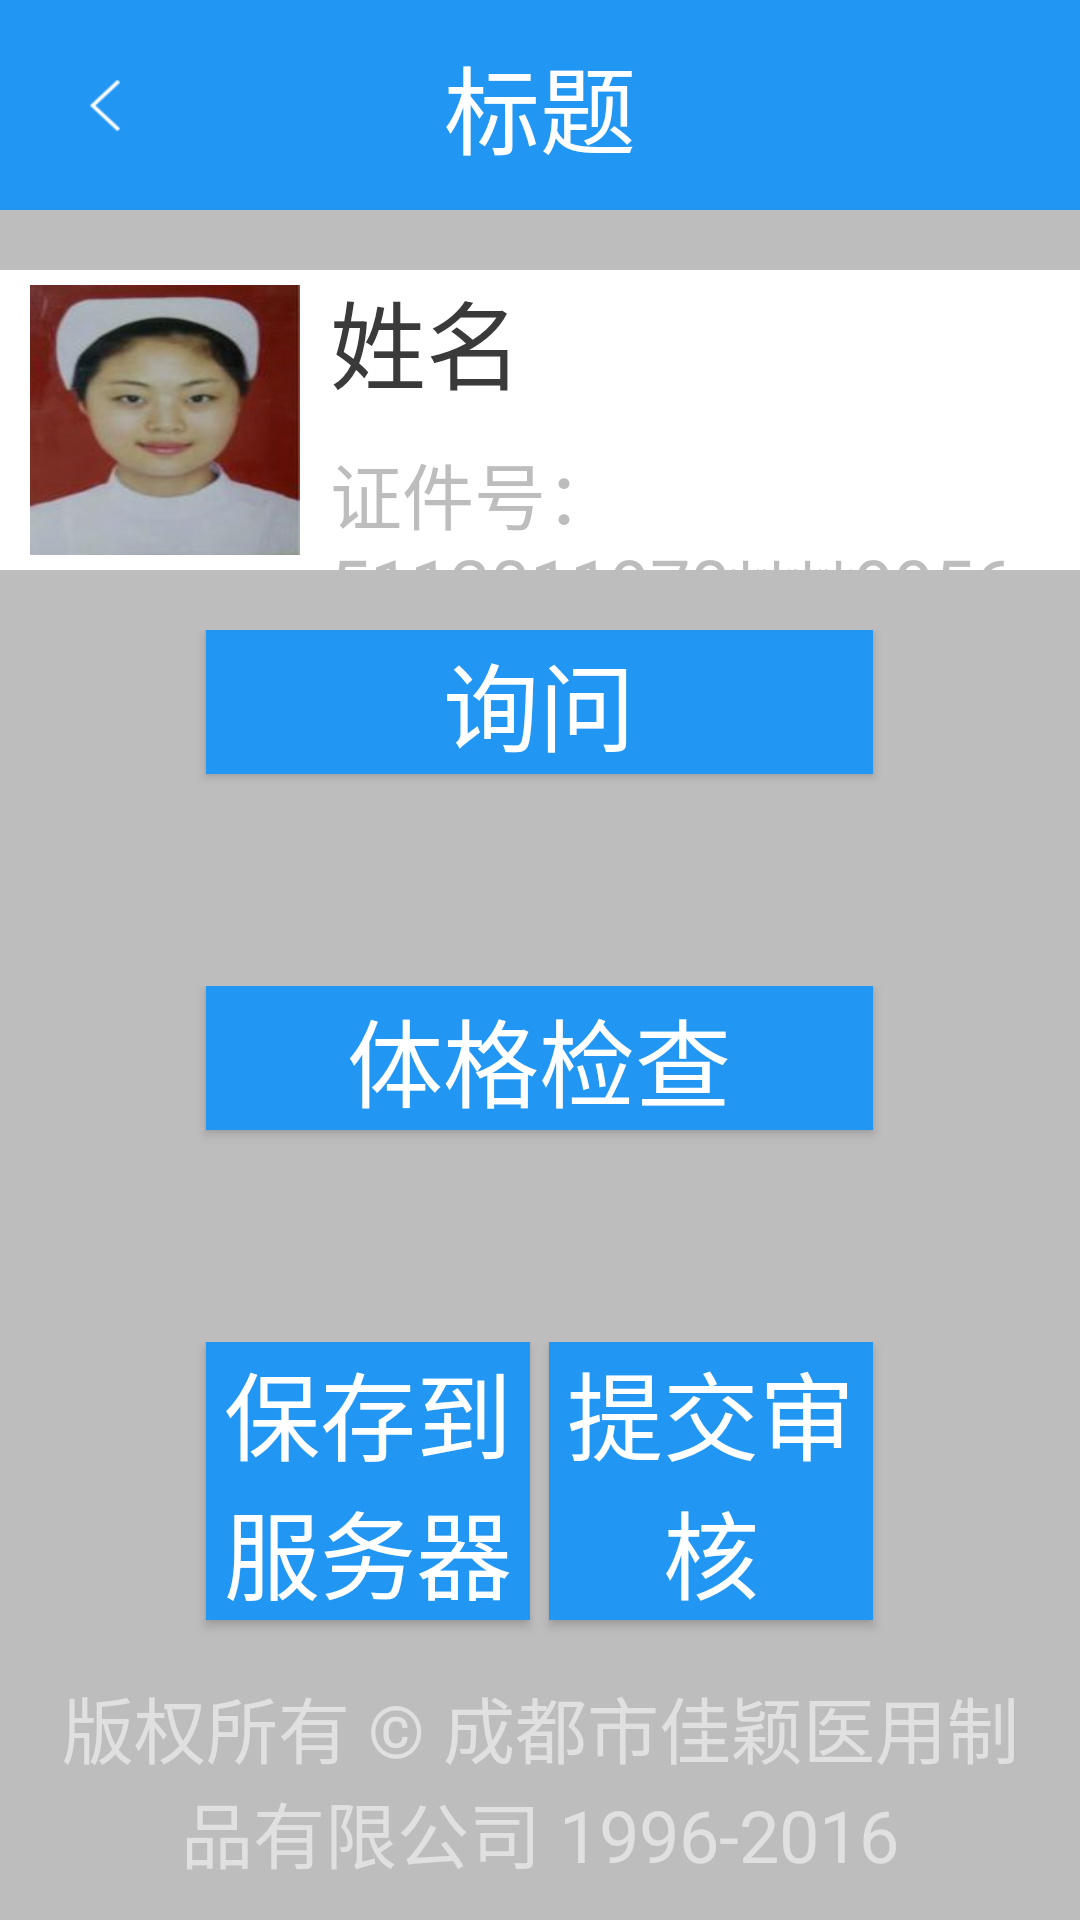

Named icons in this screenshot (1080 × 1920) and their bounding boxes, (x1, y1, x2, y2):
jiantou press: (90, 80, 120, 131)
norse: (30, 285, 300, 555)
